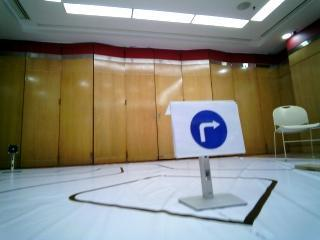right: (175, 104, 242, 153)
